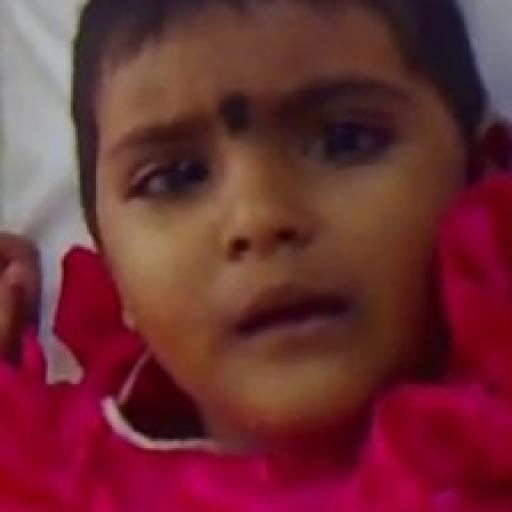Autism: (82, 24, 512, 455)
